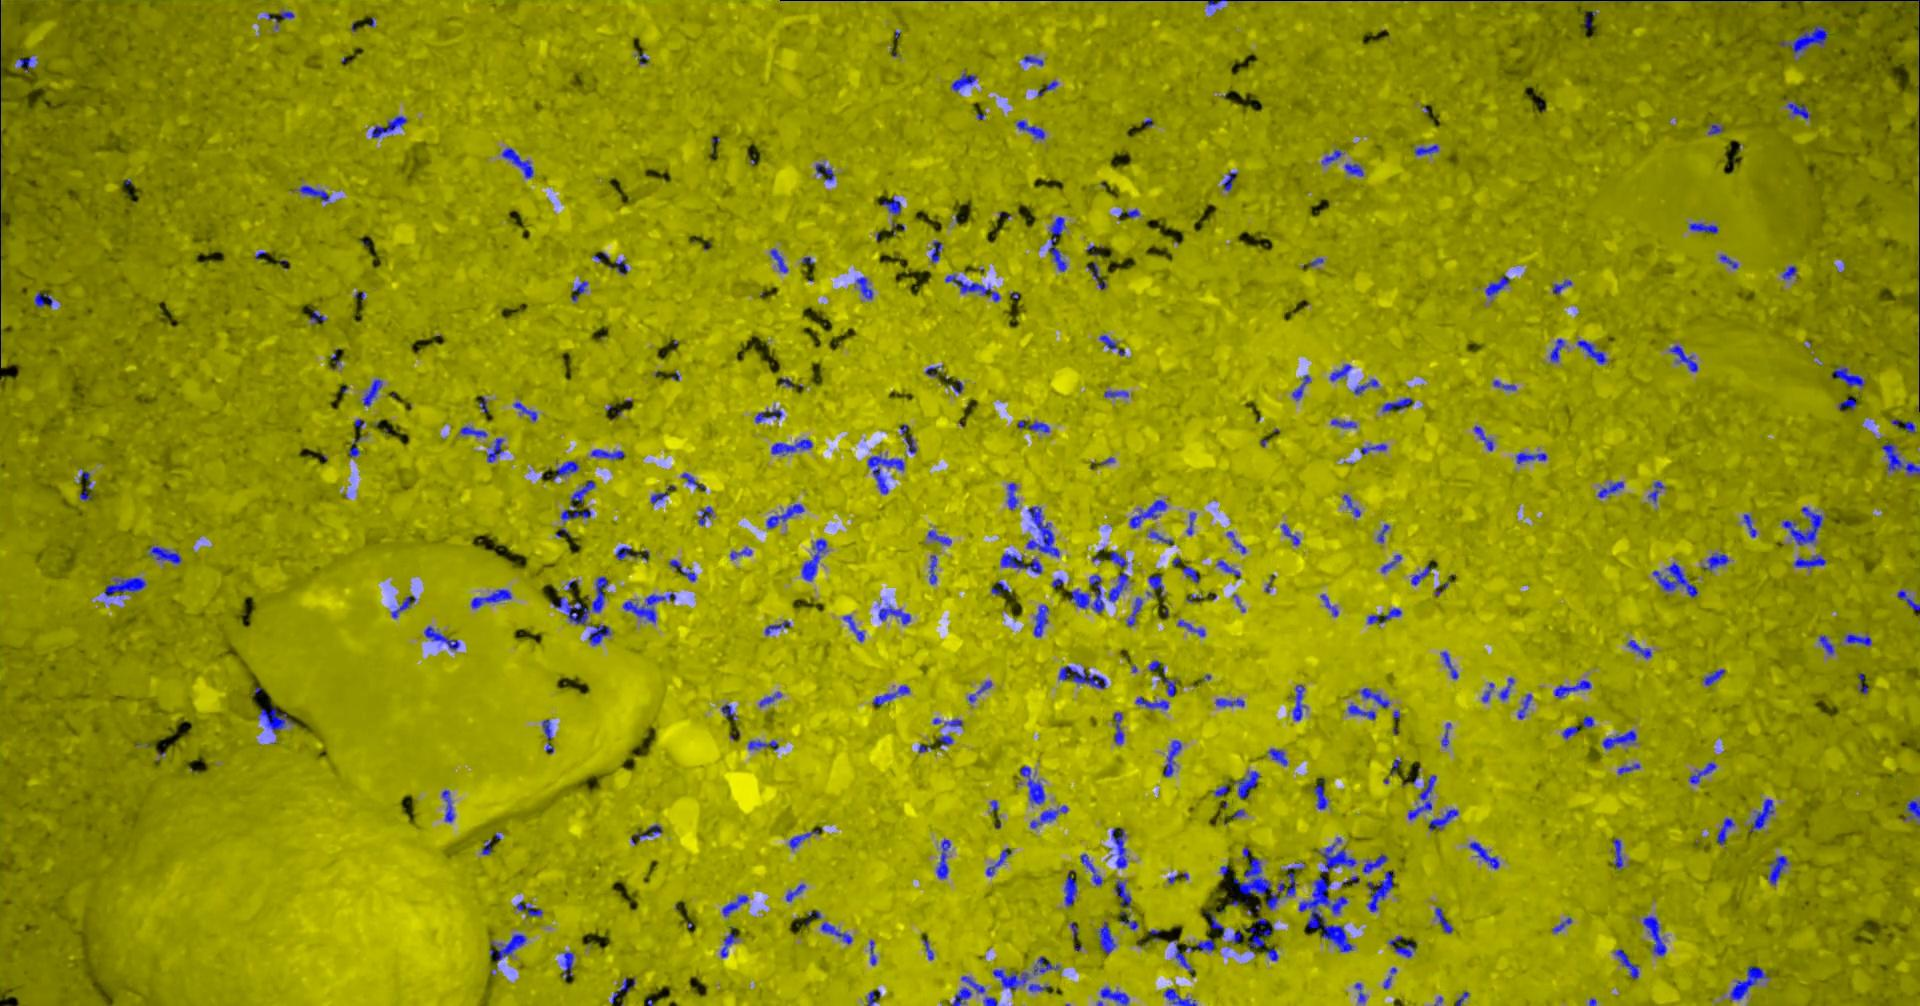ant: (551, 575, 607, 624), (1026, 506, 1059, 556), (622, 592, 676, 622), (1782, 506, 1822, 545), (1652, 561, 1697, 597), (1778, 24, 1827, 55), (943, 274, 999, 301), (867, 453, 904, 493), (560, 480, 594, 520), (1069, 574, 1103, 614), (1407, 774, 1436, 819), (1730, 965, 1768, 998), (992, 969, 1049, 991), (1881, 443, 1919, 475), (1058, 666, 1106, 688), (1366, 870, 1393, 911), (1129, 499, 1166, 528), (801, 539, 827, 580), (489, 934, 526, 962), (1018, 765, 1044, 804), (259, 705, 295, 733), (1048, 216, 1065, 271), (502, 147, 533, 178), (766, 503, 804, 528), (951, 976, 984, 1005), (1642, 916, 1665, 955), (1818, 0, 1919, 9), (1029, 805, 1067, 828), (1001, 553, 1041, 573), (423, 626, 458, 649), (103, 577, 145, 596), (1749, 798, 1773, 831), (1168, 937, 1192, 970), (1469, 841, 1498, 868), (470, 589, 510, 608), (371, 116, 406, 137), (872, 685, 909, 705), (1669, 344, 1697, 371), (1247, 923, 1272, 953), (1079, 854, 1102, 885), (985, 847, 1011, 875), (1576, 340, 1605, 365), (1614, 949, 1638, 978), (1830, 366, 1864, 386), (820, 921, 852, 942), (1553, 680, 1591, 697), (1233, 771, 1258, 798), (1601, 729, 1636, 748), (770, 439, 811, 455), (1163, 741, 1181, 776), (1114, 879, 1131, 915), (1429, 808, 1458, 829), (877, 605, 910, 624), (1111, 827, 1126, 868), (1107, 572, 1128, 601), (1360, 687, 1389, 708), (149, 545, 182, 563), (391, 594, 415, 619), (789, 829, 819, 848), (842, 615, 863, 641), (1388, 935, 1415, 956), (1688, 762, 1716, 782), (1096, 987, 1128, 1005), (1768, 855, 1787, 884), (936, 838, 950, 878), (669, 559, 695, 580), (1098, 921, 1115, 954), (721, 895, 748, 916), (1016, 119, 1044, 138), (1164, 988, 1196, 1005), (968, 680, 990, 702), (552, 460, 578, 480), (1291, 683, 1305, 720), (950, 72, 977, 91), (1291, 373, 1310, 400), (362, 379, 381, 405), (1702, 553, 1728, 572), (1716, 817, 1735, 843), (1368, 607, 1401, 622), (719, 926, 735, 956), (1177, 619, 1205, 636), (587, 624, 610, 645), (1484, 276, 1509, 296), (1032, 605, 1048, 636), (1032, 956, 1059, 974), (298, 185, 329, 201), (1896, 589, 1919, 610), (441, 789, 455, 822), (1473, 426, 1492, 450), (1627, 639, 1651, 658), (1363, 854, 1387, 873), (1434, 907, 1451, 932), (1126, 597, 1142, 626), (632, 824, 662, 840), (1313, 777, 1327, 809), (1441, 652, 1458, 678), (513, 401, 536, 420), (1063, 871, 1076, 906), (1785, 102, 1810, 119), (770, 248, 787, 272), (1347, 704, 1375, 719), (1183, 937, 1214, 951), (486, 437, 503, 462), (1135, 696, 1168, 709), (1280, 523, 1299, 545), (1225, 531, 1244, 553), (1410, 564, 1429, 586), (1382, 398, 1411, 412), (855, 276, 872, 298), (516, 901, 542, 916), (681, 473, 705, 489), (541, 719, 552, 753), (1352, 379, 1378, 394), (79, 470, 91, 500), (1597, 481, 1623, 497), (1330, 363, 1351, 381), (1342, 494, 1360, 516), (1793, 555, 1826, 567), (927, 530, 951, 545), (764, 620, 789, 635), (1380, 554, 1401, 572), (785, 883, 805, 901), (1321, 594, 1337, 616), (754, 409, 782, 422), (1843, 633, 1870, 645), (1517, 694, 1531, 719), (1549, 338, 1564, 361), (1515, 452, 1545, 464), (1217, 560, 1239, 575), (1702, 669, 1724, 685), (758, 691, 781, 706), (815, 163, 834, 180), (881, 196, 900, 213), (1148, 531, 1172, 545), (590, 448, 623, 459), (1647, 481, 1663, 502), (1267, 748, 1288, 765), (1550, 917, 1571, 934), (571, 279, 587, 301), (1903, 799, 1919, 821), (1112, 713, 1123, 744), (1891, 418, 1914, 432), (1006, 481, 1017, 509), (1498, 677, 1512, 700), (1037, 80, 1057, 97), (1837, 395, 1857, 412), (1109, 550, 1128, 567), (1161, 677, 1177, 696), (1321, 149, 1341, 164), (1688, 222, 1718, 232), (1743, 513, 1756, 537), (615, 546, 639, 559), (561, 951, 573, 978), (1210, 915, 1224, 936), (1611, 838, 1622, 868), (34, 291, 52, 307), (697, 506, 712, 525), (1148, 575, 1163, 594), (458, 426, 486, 436), (347, 436, 361, 456), (1818, 634, 1832, 654), (747, 741, 778, 749), (1182, 565, 1199, 582), (1098, 334, 1116, 349), (1330, 418, 1356, 428), (1343, 163, 1363, 177), (1222, 171, 1236, 191), (608, 260, 627, 274), (1552, 279, 1571, 293), (990, 580, 1010, 594), (1415, 144, 1437, 155), (1360, 443, 1385, 453), (721, 704, 737, 720), (1719, 254, 1737, 268), (1857, 672, 1868, 694), (931, 240, 941, 263), (1492, 380, 1515, 390), (1029, 420, 1049, 432), (730, 547, 750, 559), (1617, 763, 1639, 774), (1354, 982, 1365, 1002), (309, 309, 325, 323), (936, 735, 952, 749), (928, 554, 936, 583), (1215, 699, 1244, 706), (904, 434, 916, 453), (18, 57, 32, 72), (618, 977, 634, 991), (650, 492, 667, 504), (924, 365, 942, 376), (869, 939, 876, 965), (1782, 265, 1796, 279), (1023, 55, 1043, 65), (867, 989, 880, 1005), (1186, 512, 1195, 533), (1562, 727, 1578, 738), (1103, 390, 1128, 398), (1265, 946, 1277, 960), (943, 718, 963, 727), (1707, 124, 1723, 133), (1581, 715, 1592, 727), (983, 996, 997, 1005)
